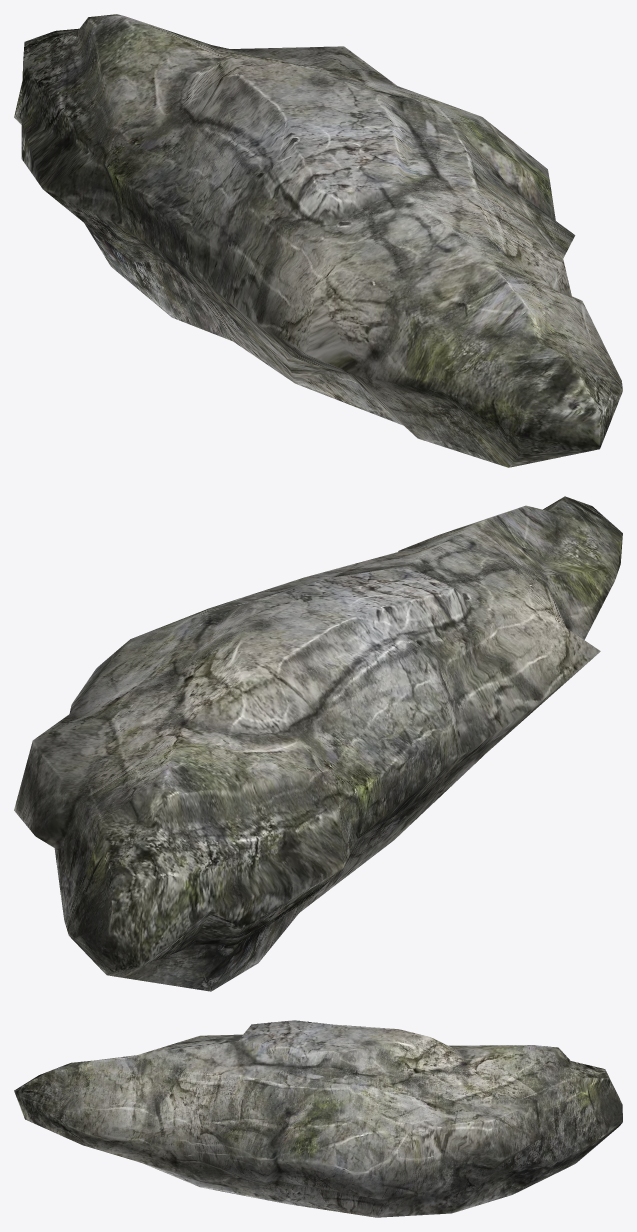
File: Rock - Medium A-onUt0EfV.glb
The picture shows the model from 3 angles, top to bottom: view 1: azimuth 30°, elevation 25°; view 2: azimuth 150°, elevation 25°; view 3: azimuth 270°, elevation 25°; orthographic projection. The views are drawn at different scales.
Visible parts, largest first — view 1: RHEF_RockMediumA; view 2: RHEF_RockMediumA; view 3: RHEF_RockMediumA.
Part boxes in pixels (bbox=[...]): RHEF_RockMediumA: bbox=[14, 14, 622, 467]; RHEF_RockMediumA: bbox=[14, 496, 622, 991]; RHEF_RockMediumA: bbox=[14, 1020, 622, 1217].
Bounding box in the file's own units: 4 × 2.76 × 9.7.
Materials: 1 (1 with a texture image).
